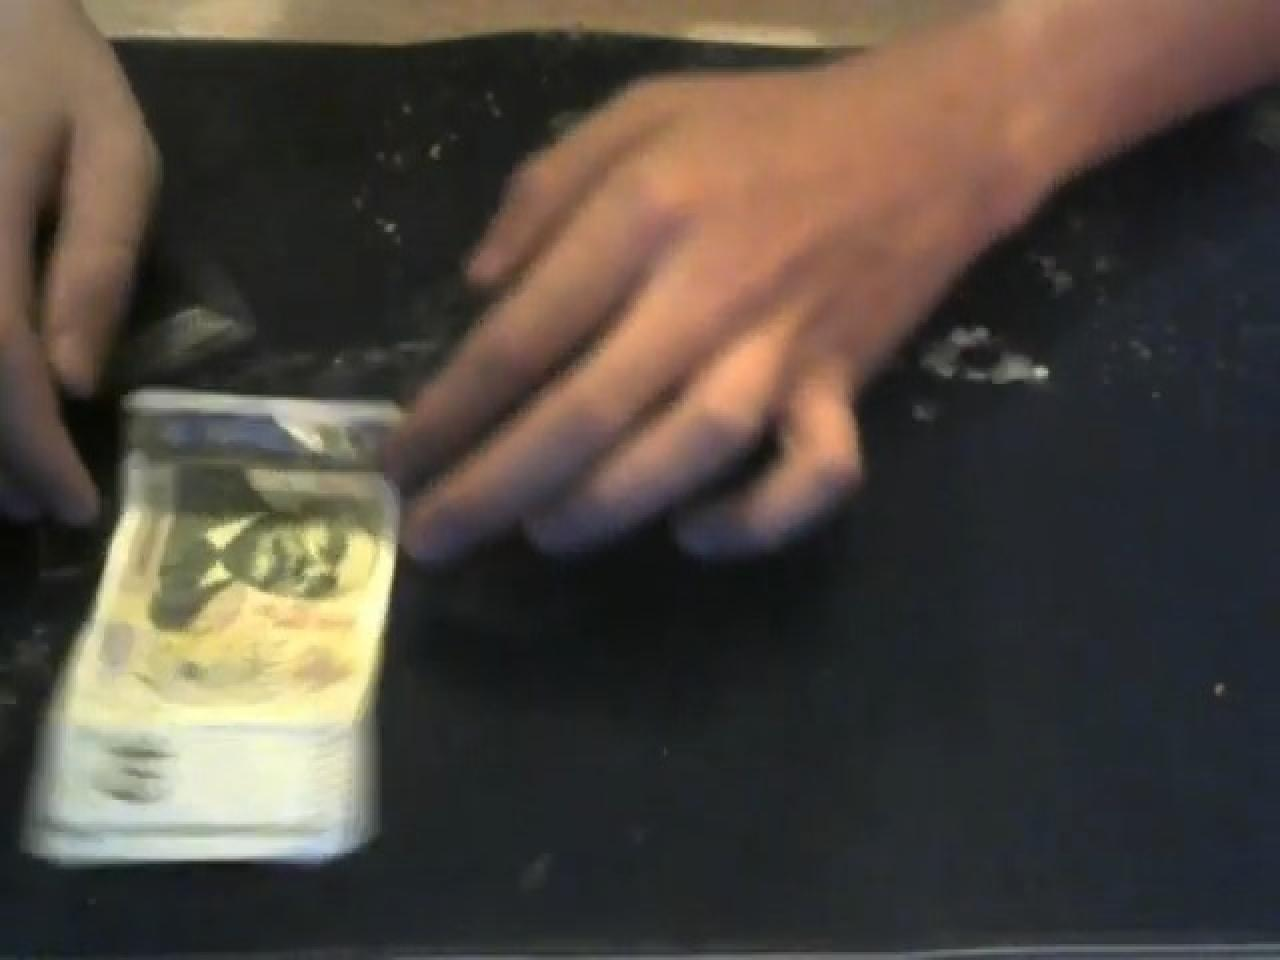10leva: (16, 389, 402, 877)
